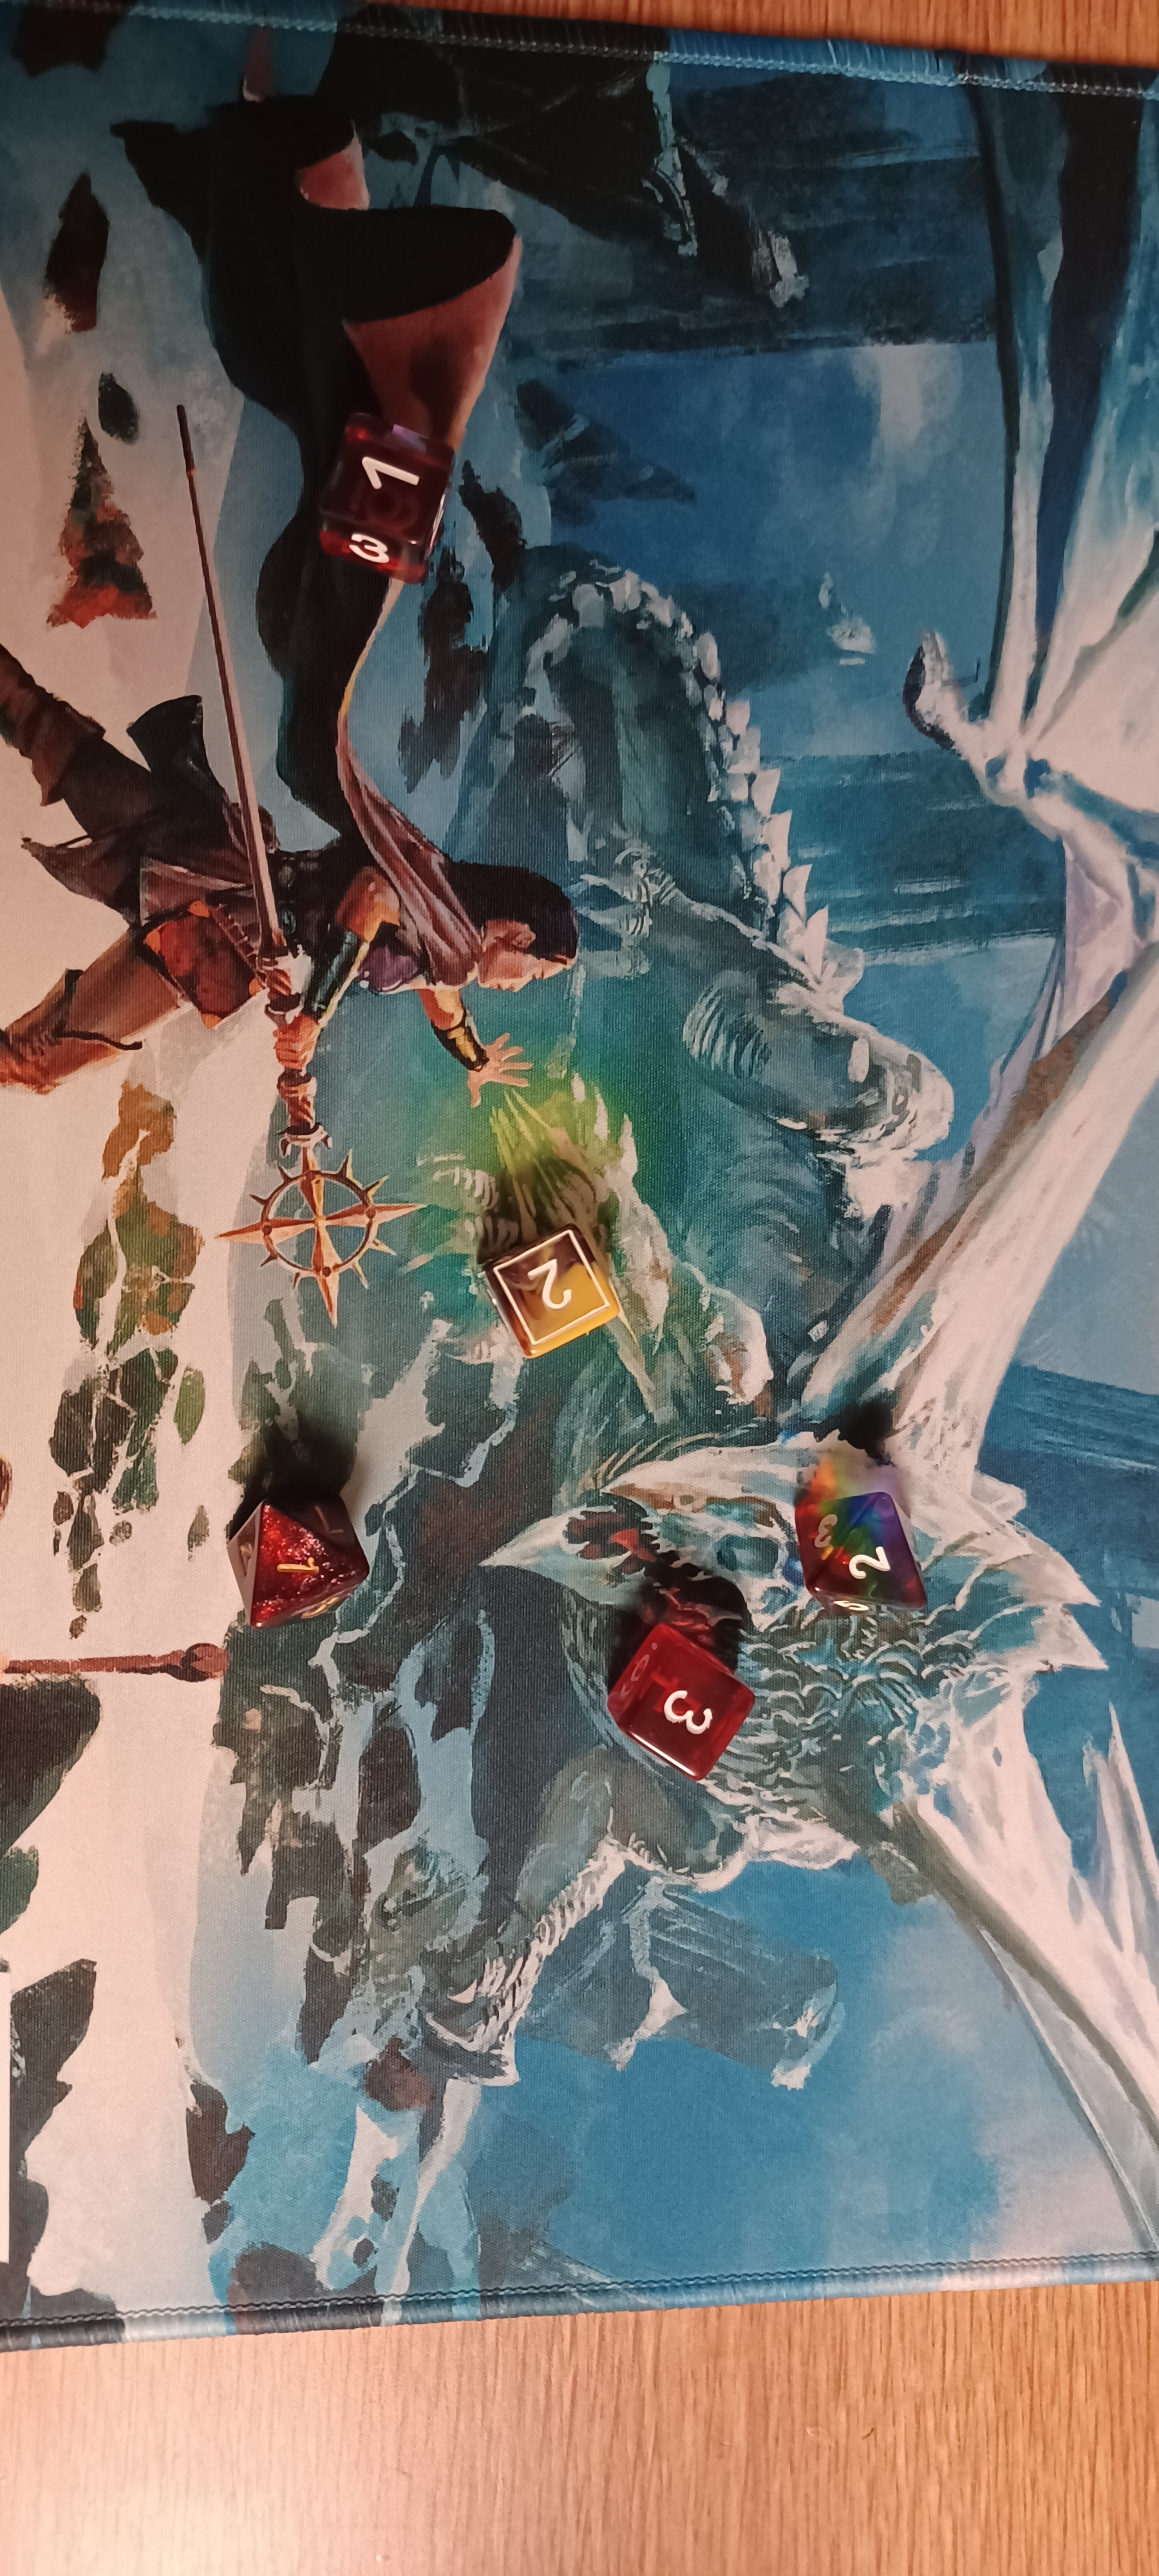one: (261, 379, 506, 613), (197, 1449, 424, 1651)
three: (573, 1587, 788, 1801)
two: (754, 1472, 975, 1640), (463, 1196, 653, 1368)
